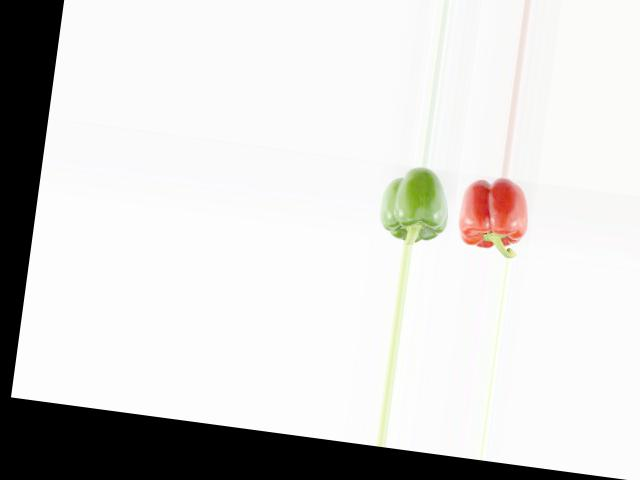bell_pepper: (374, 165, 456, 248)
